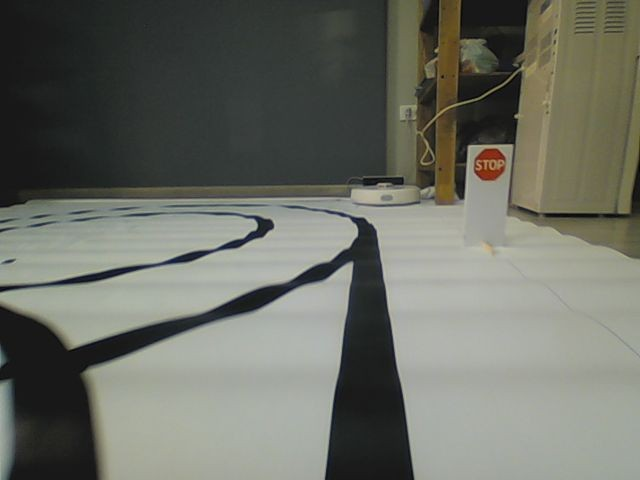Stop: (472, 149, 507, 184)
